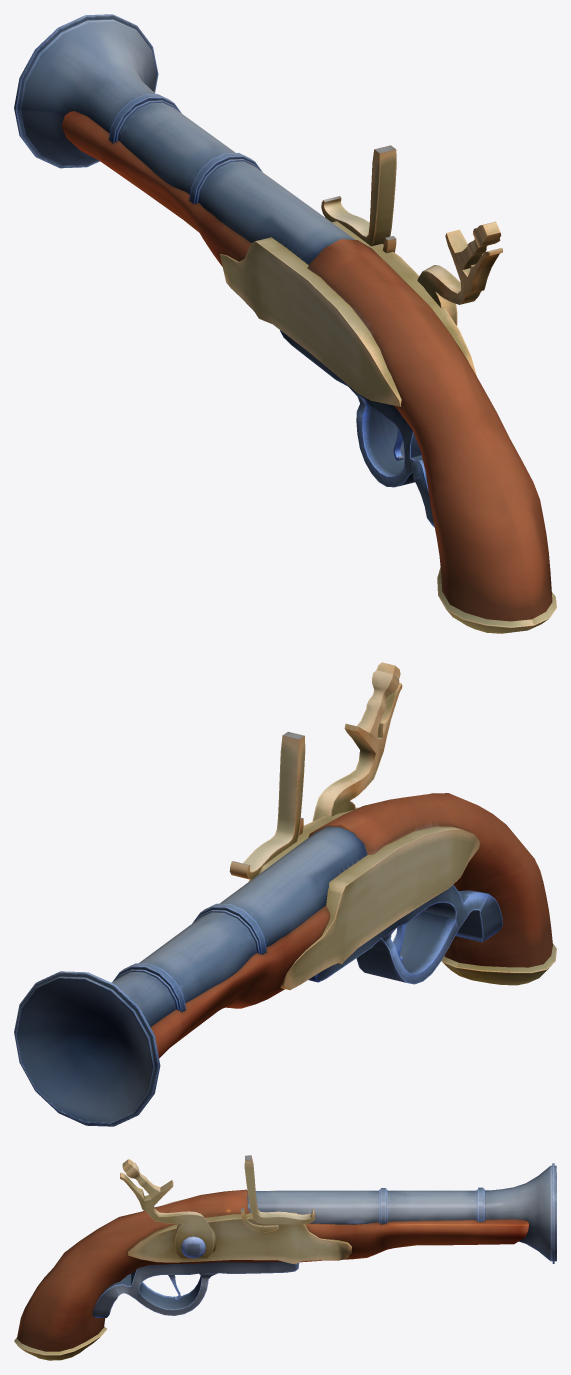
File: blunderbus.glb
3 renders of one model, top to bottom at view 1: azimuth 30°, elevation 25°; view 2: azimuth 150°, elevation 25°; view 3: azimuth 270°, elevation 25°, orthographic. The views are drawn at different scales.
Visible parts, largest first — view 1: Cylinder; view 2: Cylinder; view 3: Cylinder.
Boxes of the visible parts, left/top/right/bottom form: Cylinder: left=14, top=14, right=556, bottom=633; Cylinder: left=14, top=662, right=556, bottom=1126; Cylinder: left=14, top=1155, right=556, bottom=1360.
Bounding box in the file's own units: 5.84 × 13.39 × 31.67.
Materials: 1 (1 with a texture image).
